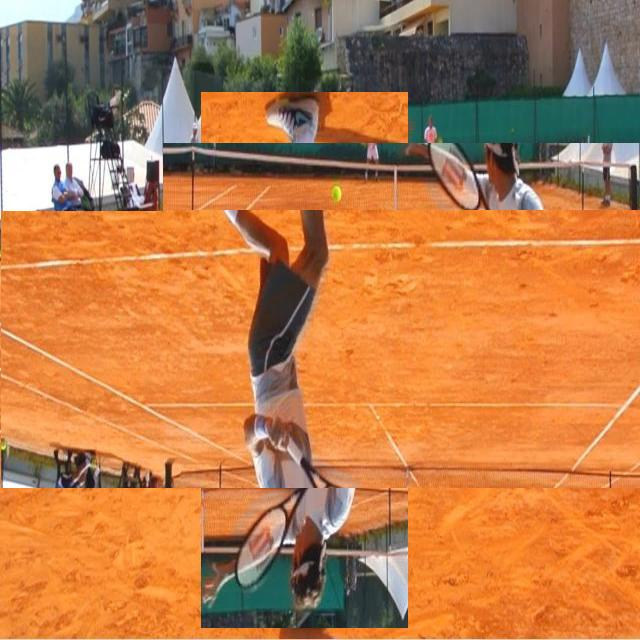court: (1, 211, 640, 488)
net: (163, 144, 640, 225)
player: (202, 92, 410, 628)
